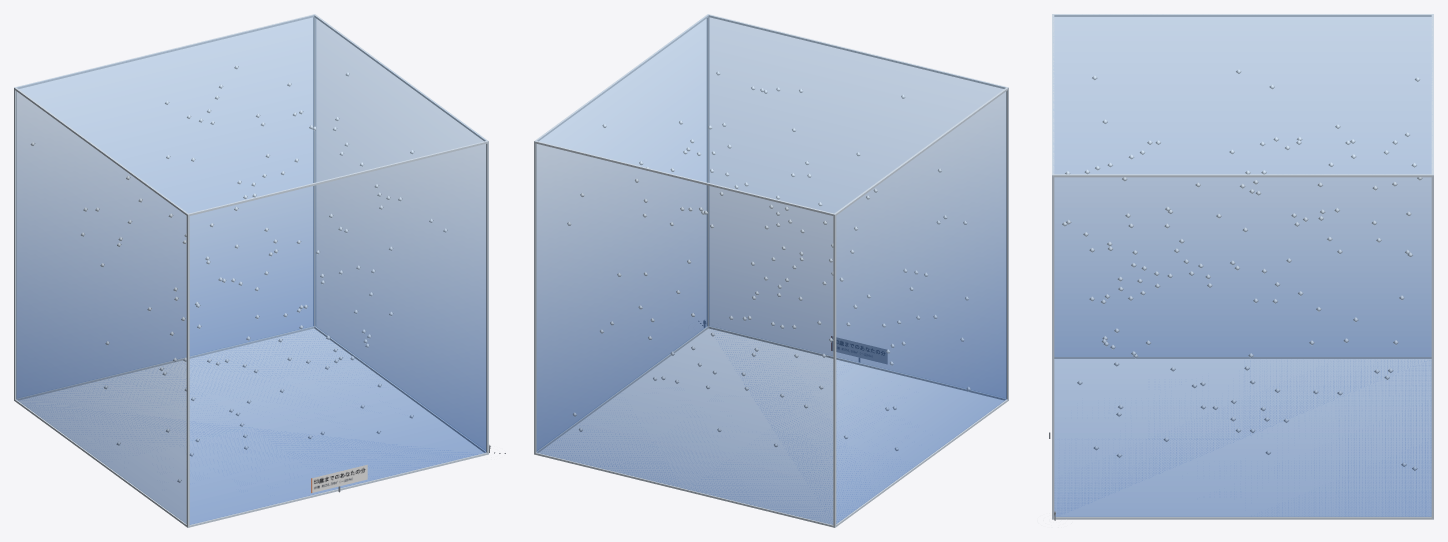
File: cube_life_53.glb
The picture shows the model from 3 angles, left to right: view 1: azimuth 30°, elevation 25°; view 2: azimuth 150°, elevation 25°; view 3: azimuth 270°, elevation 25°; orthographic projection. The views are drawn at different scales.
Parts seen in each view (by area): view 1: co2, edge, dots, label; view 2: co2, edge, dots, label; view 3: co2, edge, dots.
Boxes of the visible parts, x1=… form: co2: x1=16, y1=15, x2=486, y2=524; edge: x1=14, y1=14, x2=488, y2=527; dots: x1=30, y1=65, x2=447, y2=482; label: x1=311, y1=464, x2=367, y2=492; co2: x1=536, y1=15, x2=1006, y2=524; edge: x1=534, y1=14, x2=1008, y2=527; dots: x1=567, y1=71, x2=970, y2=451; label: x1=831, y1=336, x2=887, y2=363; co2: x1=1053, y1=15, x2=1431, y2=516; edge: x1=1052, y1=14, x2=1433, y2=519; dots: x1=1062, y1=69, x2=1422, y2=470.
Size of the model in its own units: 67.3 by 63.54 by 66.4.
8 materials, 3 textured.
